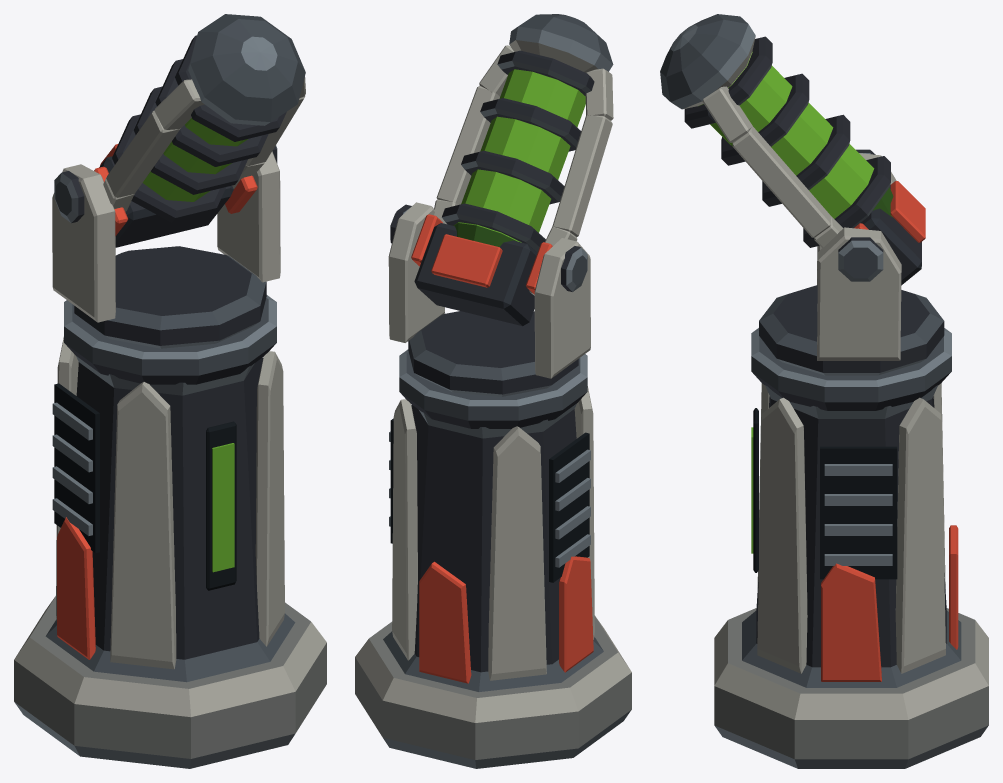
Rendered from lv4_anti-aerien.glb.
3 renders of one model, left to right at view 1: azimuth 30°, elevation 25°; view 2: azimuth 150°, elevation 25°; view 3: azimuth 270°, elevation 25°, orthographic. The views are drawn at different scales.
Parts seen in each view (by area): view 1: Base, Barrel_Recoil, Turret_Yaw, Base_TeamColor, Team_Panels; view 2: Base, Barrel_Recoil, Turret_Yaw, Base_TeamColor, Team_Panels; view 3: Base, Barrel_Recoil, Turret_Yaw, Base_TeamColor, Team_Panels.
Boxes of the visible parts, box(x1,y1,x2,y2) form: Base: box(14, 295, 326, 768); Barrel_Recoil: box(99, 14, 305, 247); Turret_Yaw: box(52, 145, 280, 348); Base_TeamColor: box(57, 517, 95, 659); Team_Panels: box(94, 144, 257, 235); Base: box(355, 349, 631, 768); Barrel_Recoil: box(414, 14, 613, 326); Turret_Yaw: box(388, 202, 590, 396); Base_TeamColor: box(419, 556, 593, 683); Team_Panels: box(411, 214, 552, 294); Base: box(714, 328, 988, 768); Barrel_Recoil: box(660, 14, 921, 285); Turret_Yaw: box(759, 149, 944, 375); Base_TeamColor: box(821, 525, 958, 681); Team_Panels: box(854, 181, 925, 242).
Size of the model in its own units: 1.25 by 3.5 by 1.5.
